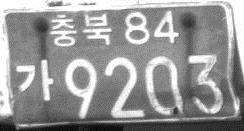0: (144, 55, 184, 117)
2: (104, 55, 145, 119)
3: (186, 54, 224, 115)
4: (153, 9, 179, 44)
8: (122, 10, 151, 45)
9: (64, 56, 98, 121)
가: (15, 58, 54, 102)
충북_O: (49, 11, 113, 49)
